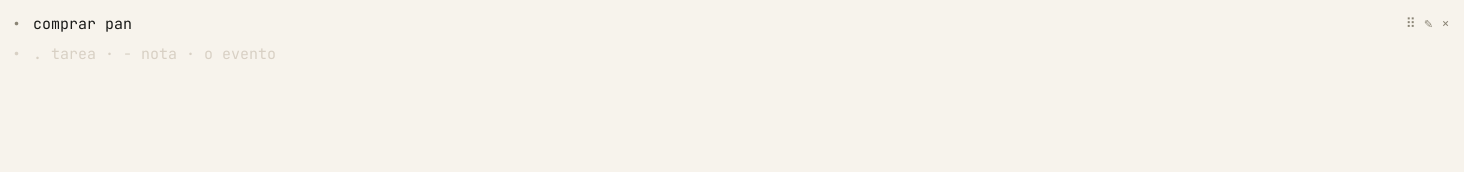
Scenario: EntryList — interactions › shows edit input after clicking edit button
The width and height of the screenshot is (1464, 172).
Click the button titled "Editar". click: (1429, 24)
box: left=1422, top=17, right=1435, bottom=31
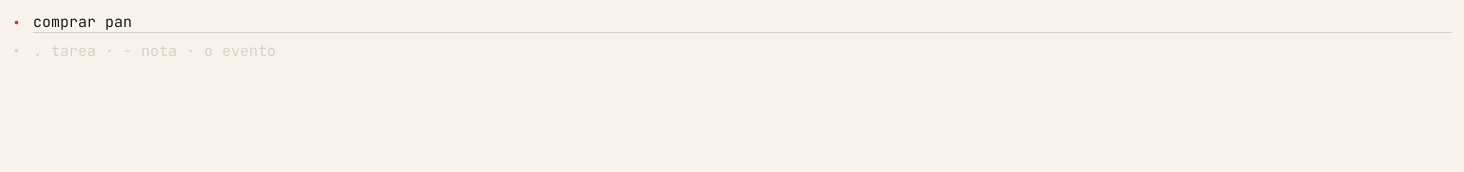
Check: the field named "editar entrada" holds "comprar pan", box left=33, top=12, right=1452, bottom=33
